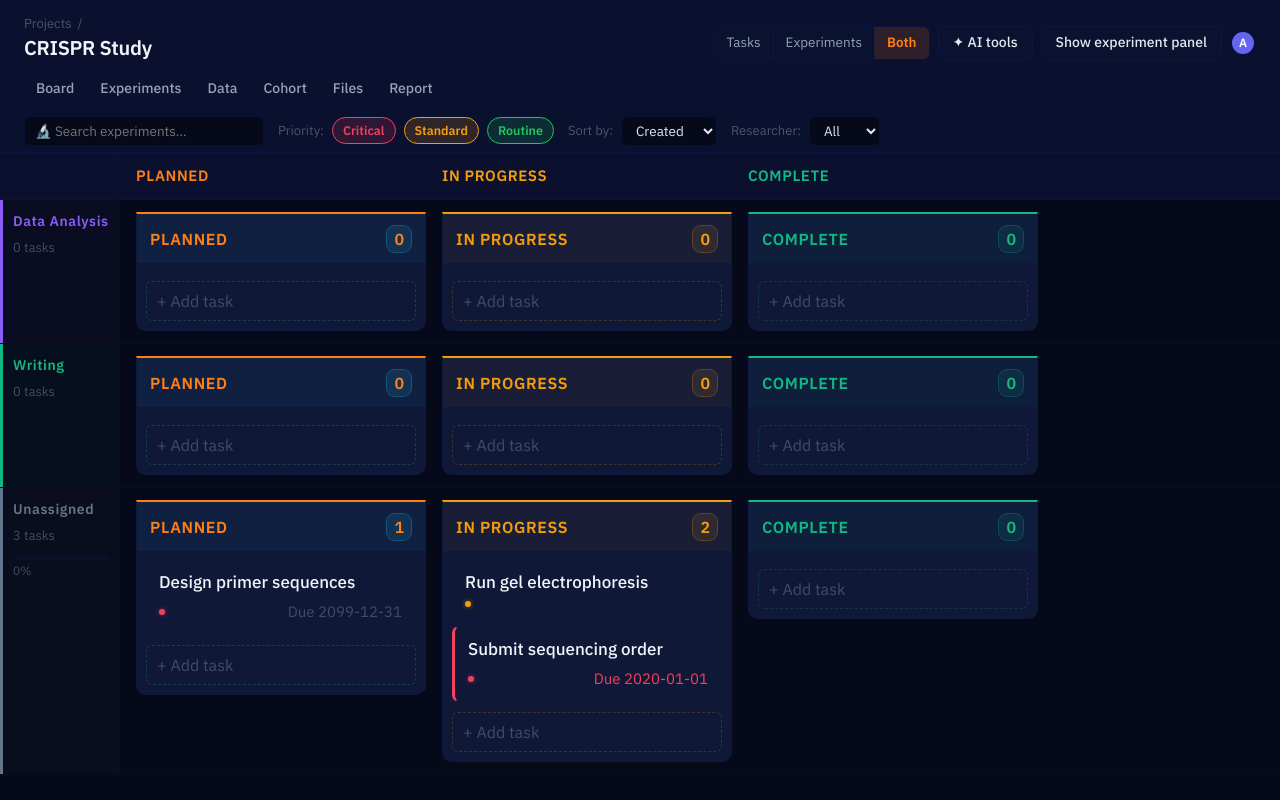
Scenario: Board — adding a task to a specific phase column › opens the form in one column only, not in every phase
Click the 1st button "+ Add task". click: (195, 301)
box: [146,281,416,321]
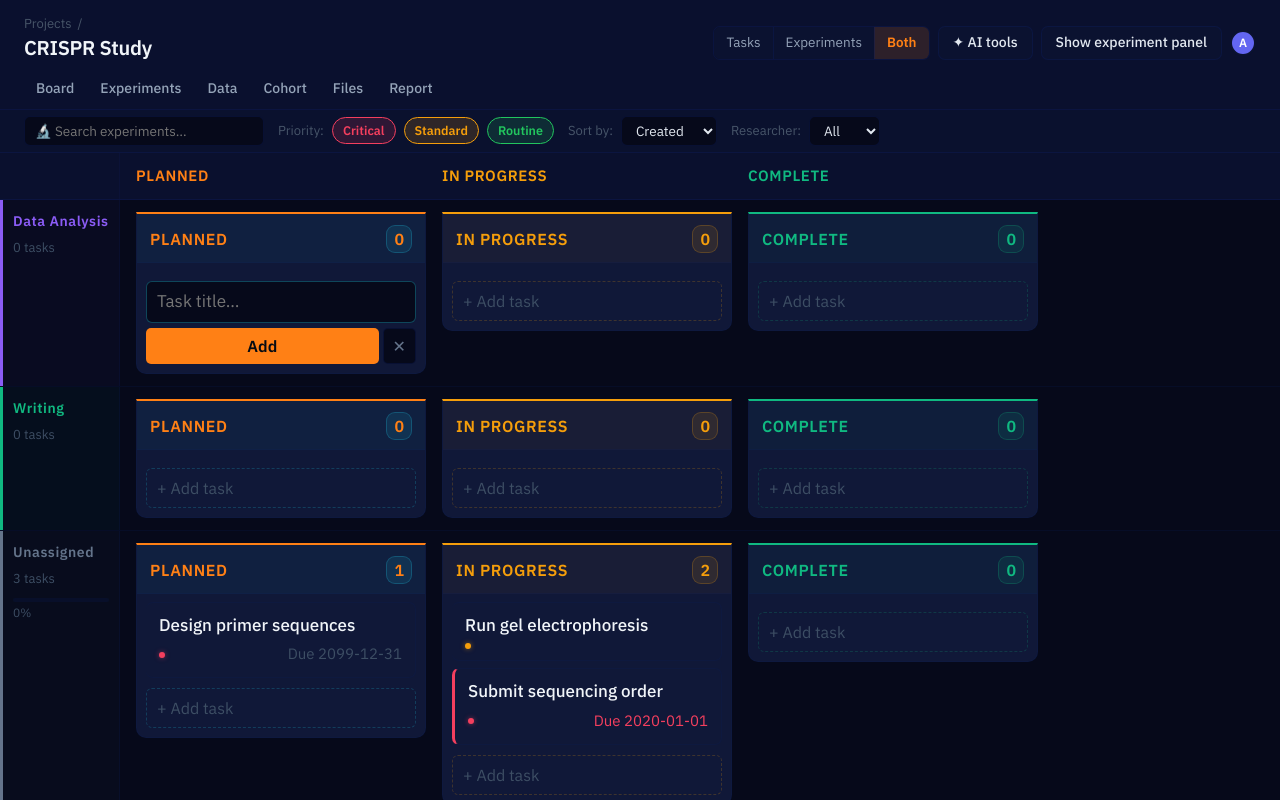
Result: the number of fields with placeholder "Task title…" is 1 at [146,281,416,322]
